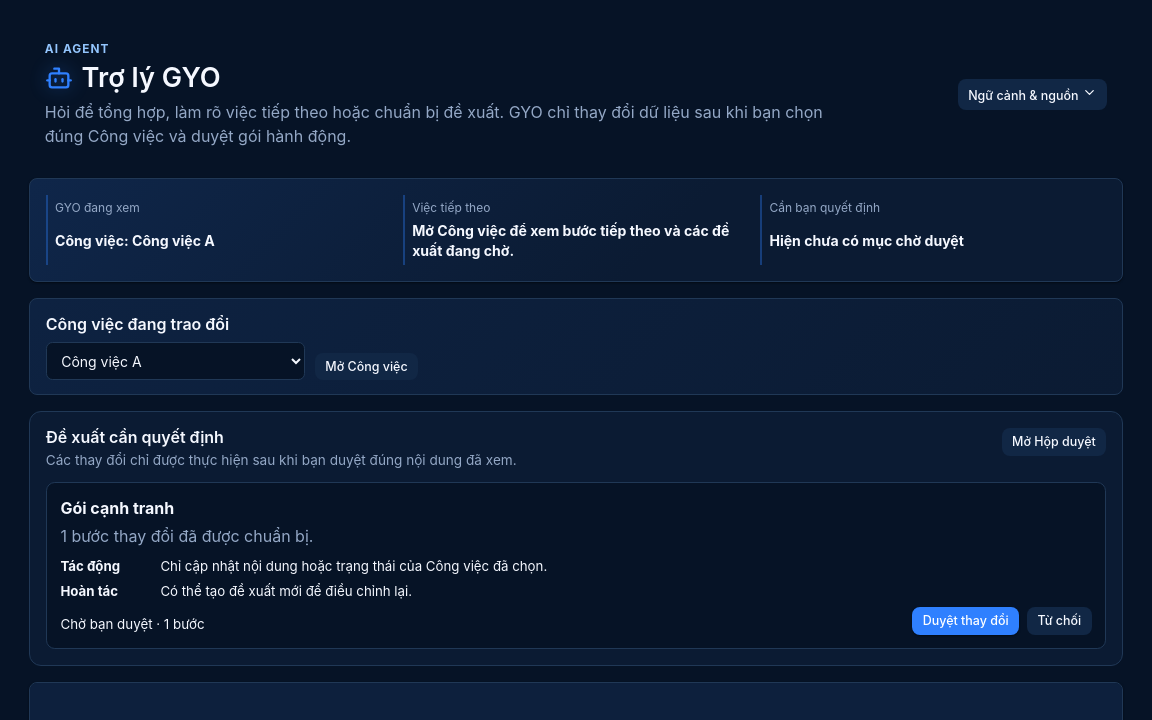
Test: HermesAssistantPanel › refreshes authoritative Work package state and removes stale CTA after a 409 decision conflict
This screenshot has width=1152, height=720.
Check: the text "Gói cạnh tranh" is shown, box 60,498 -> 174,518
Step 1. Click the button "Duyệt thay đổi" → click(966, 621), box 912,607 -> 1019,635
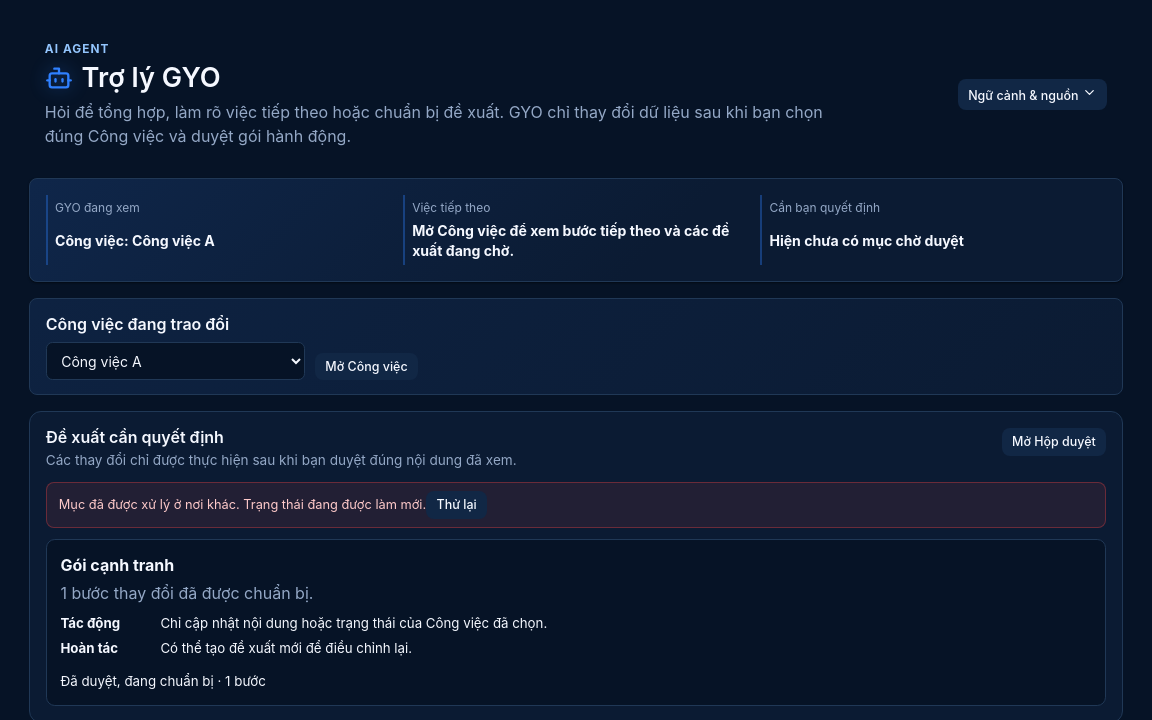
Check: the text "Mục đã được xử lý ở nơi khác. Trạng thái đang được làm mới." is shown, box 59,497 -> 426,512
Check: the button "Duyệt thay đổi" is gone
